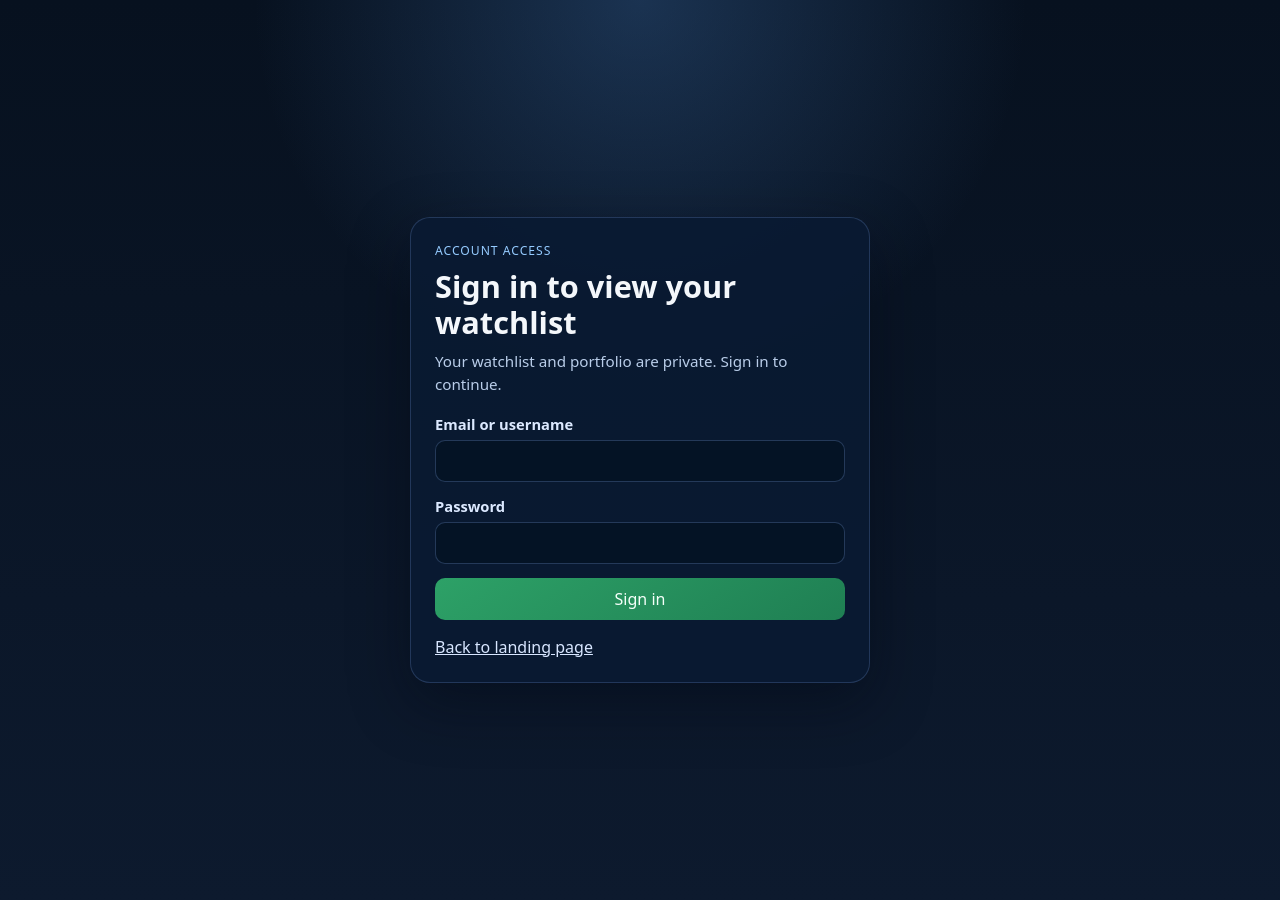
LoginPage › shows authentication failure messaging for invalid credentials
This screenshot has width=1280, height=900.
Type "demo-user" into the field labelled "Email or username" at [640, 461], box left=435, top=440, right=845, bottom=482
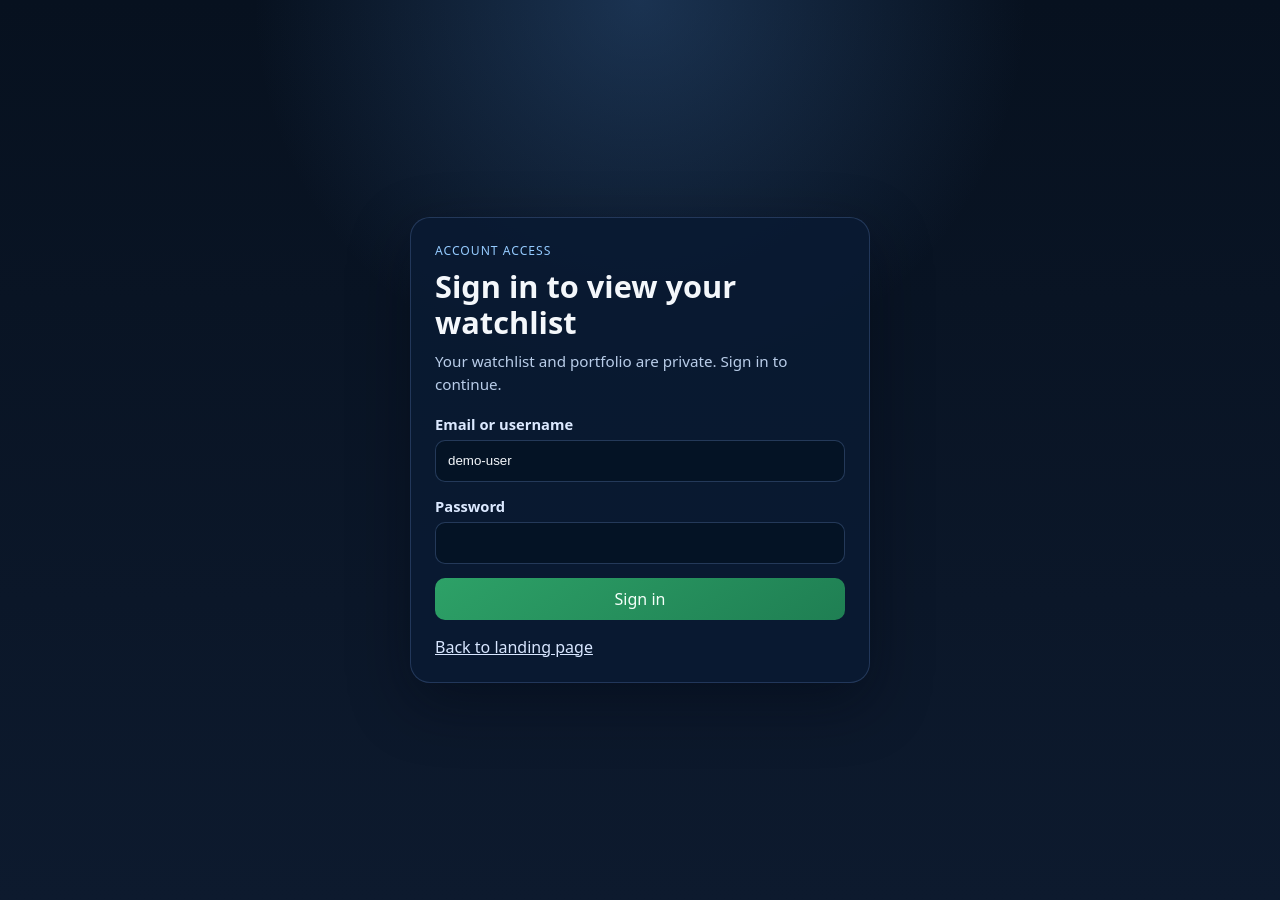
Type "wrong-pass" into the password field labelled "Password" at [640, 543], box left=435, top=522, right=845, bottom=564
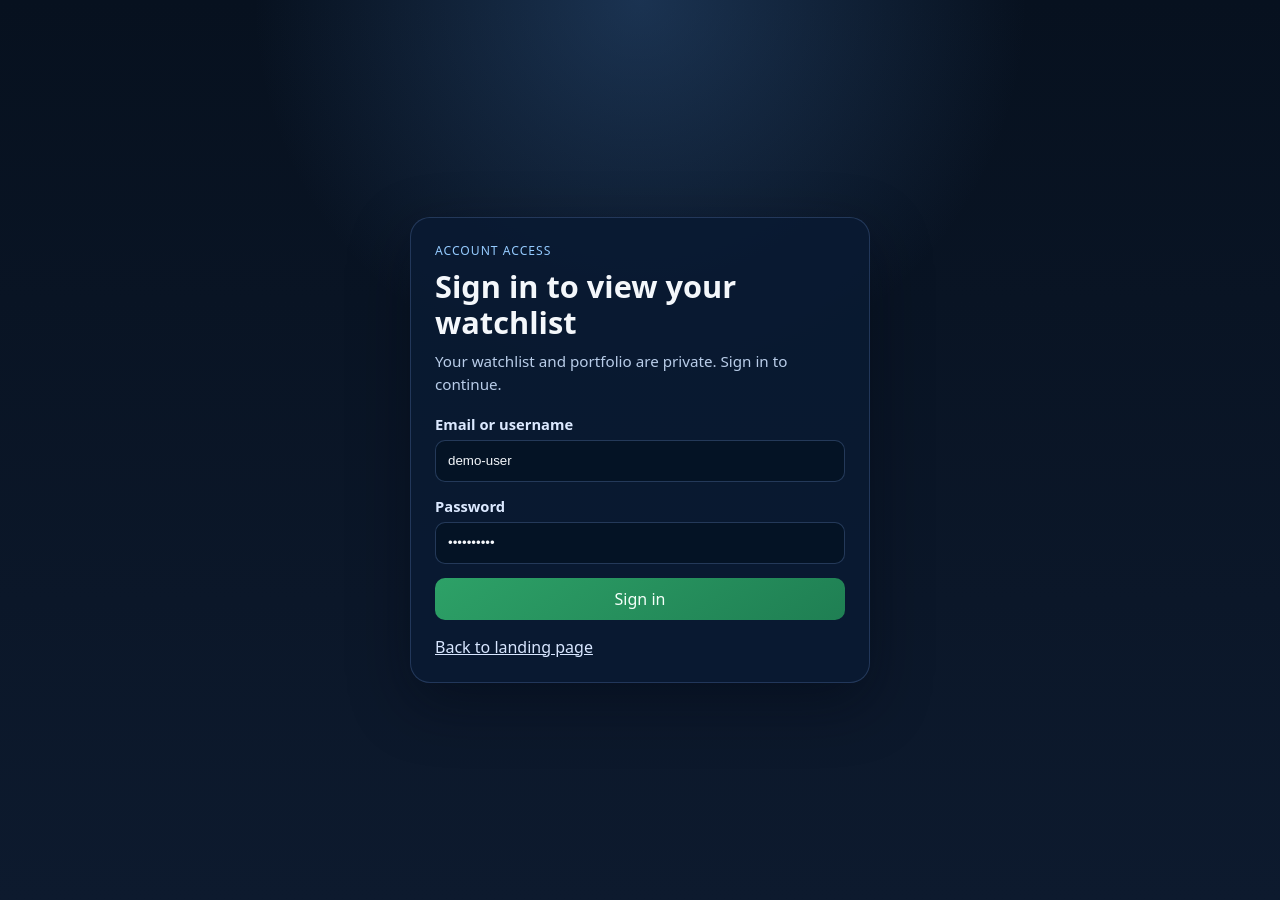
Click the button "Sign in" at [640, 599], box left=435, top=578, right=845, bottom=620
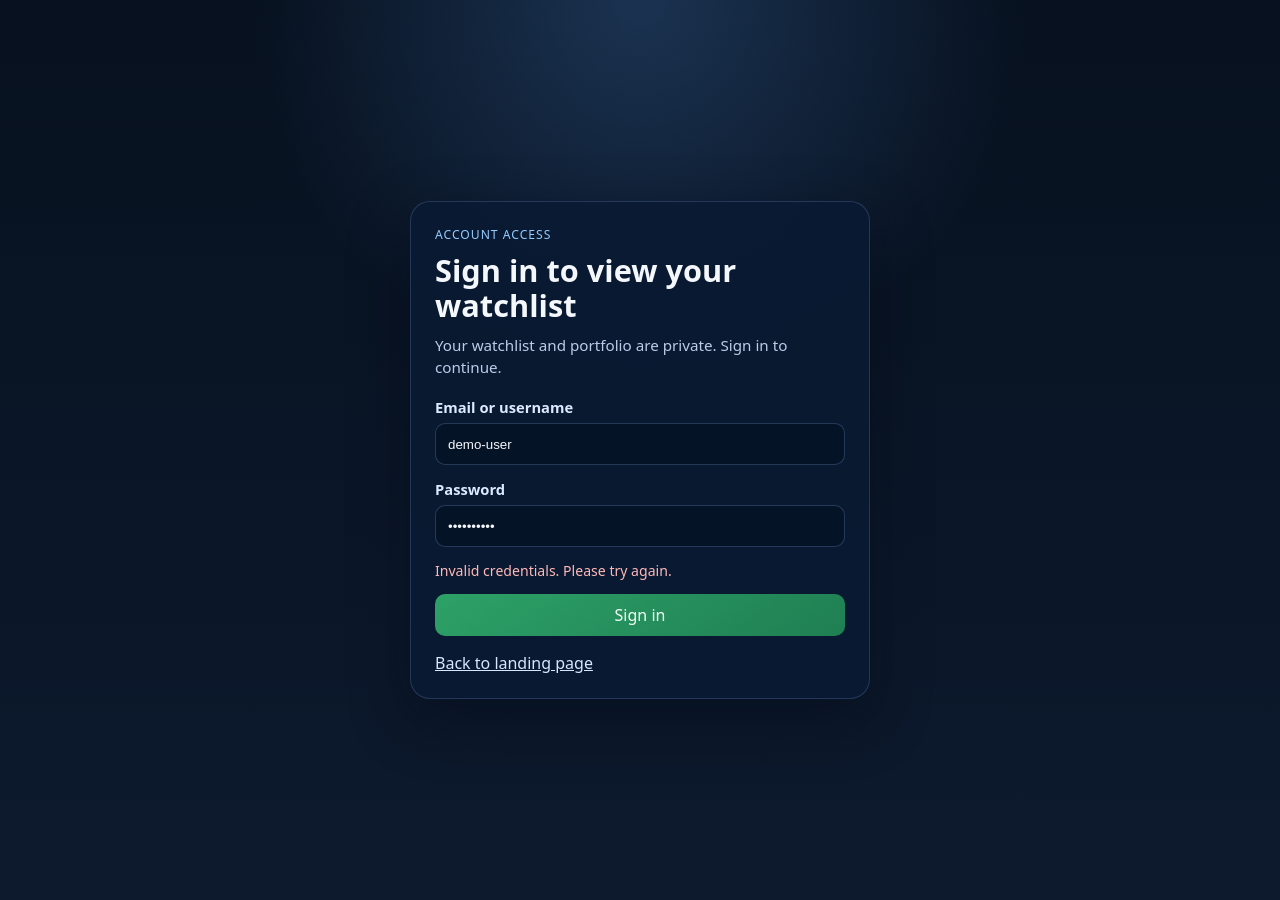
Expected: the text "Invalid credentials. Please try again." is shown, left=435, top=561, right=672, bottom=580
